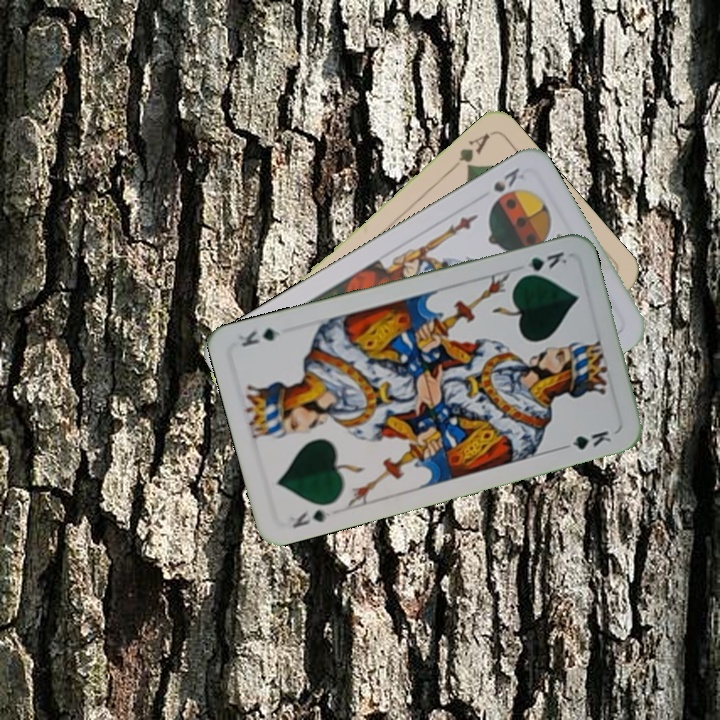GA: (446, 129, 493, 174)
GK: (515, 247, 570, 281), (285, 505, 333, 531)
SK: (489, 163, 527, 196)
